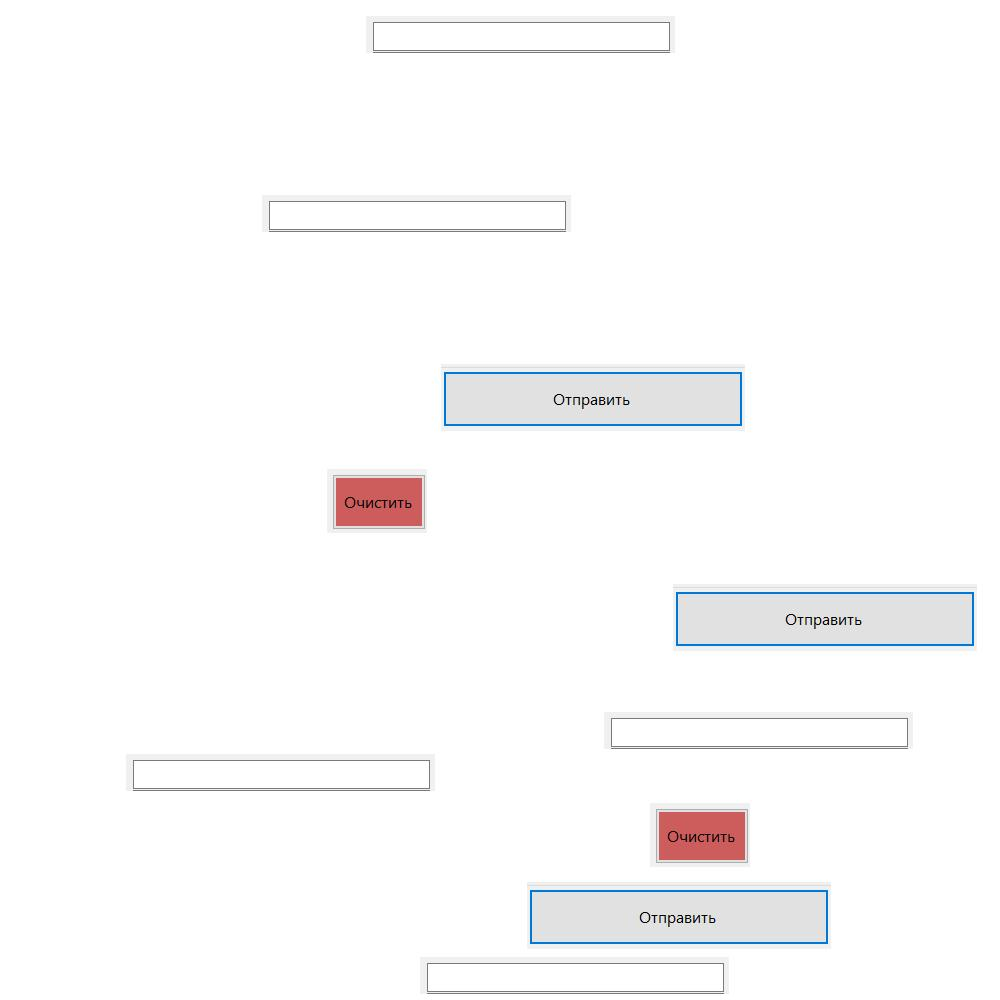Button: (673, 584, 977, 651), (527, 882, 831, 949), (441, 364, 745, 431), (650, 803, 750, 867), (327, 469, 427, 533)
EditText-: (366, 16, 675, 53), (420, 957, 729, 994), (126, 754, 435, 791), (604, 712, 913, 749), (262, 195, 571, 232)
